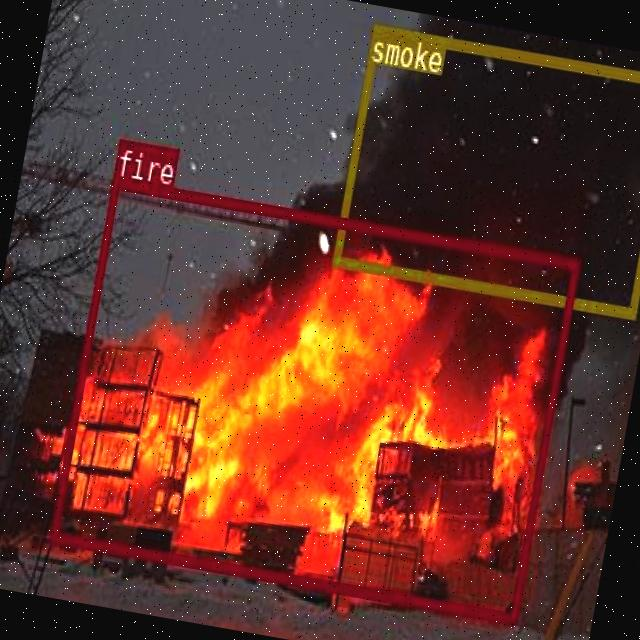fire: (47, 176, 578, 623)
smoke: (330, 22, 640, 317)
